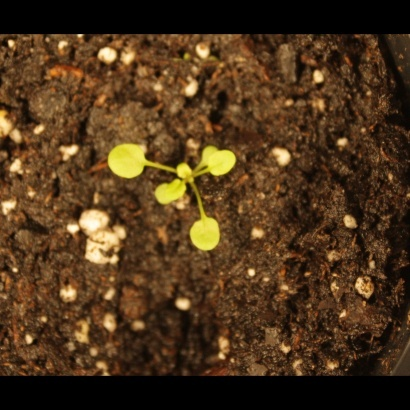leaf: (107, 140, 152, 183), (181, 213, 224, 256), (151, 178, 189, 207), (208, 146, 239, 178), (199, 143, 223, 166), (174, 159, 197, 182)
